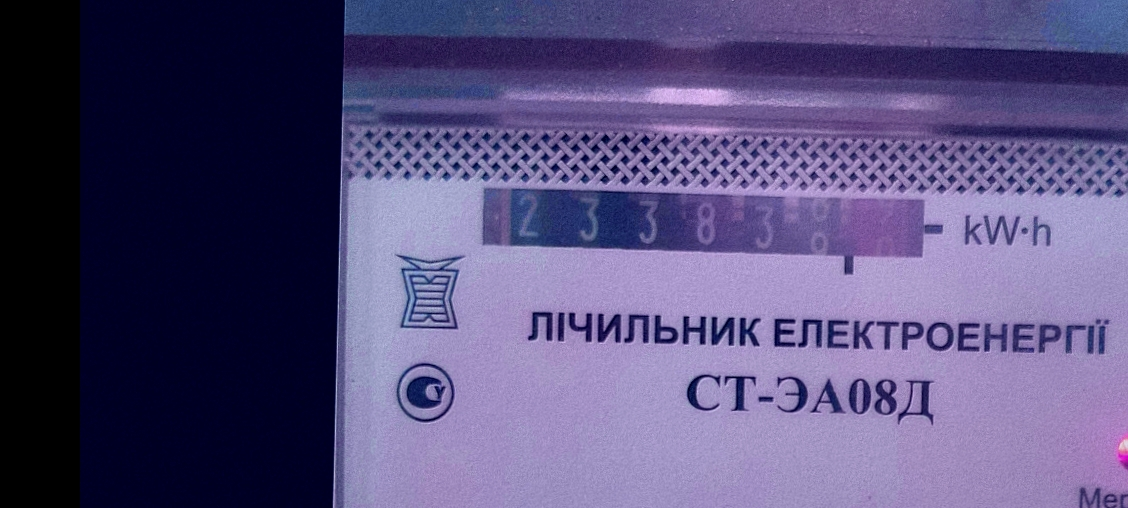0: (874, 232, 900, 258)
2: (515, 190, 544, 240)
3: (576, 194, 604, 244), (752, 201, 779, 250), (637, 197, 663, 247)
8: (694, 199, 720, 246), (808, 196, 836, 223)
9: (807, 227, 834, 257), (875, 197, 900, 226)
screen: (470, 176, 944, 279)
